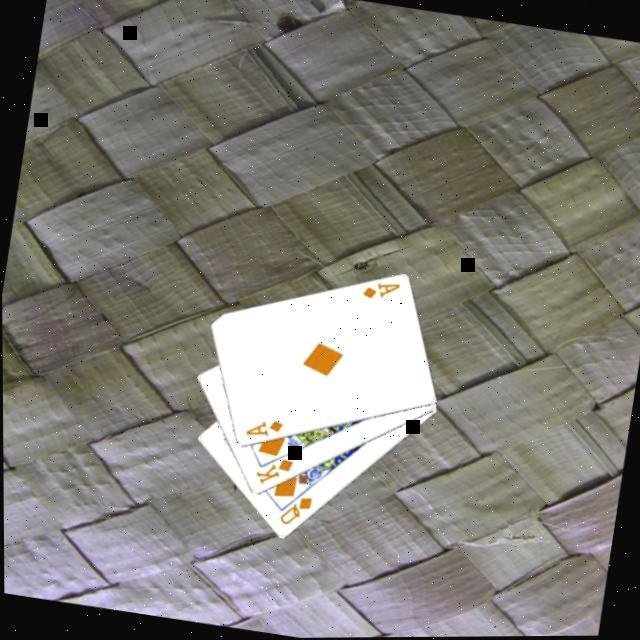AD: (357, 276, 403, 308), (240, 414, 285, 444)
KD: (248, 453, 295, 493)
QD: (273, 492, 314, 533)
